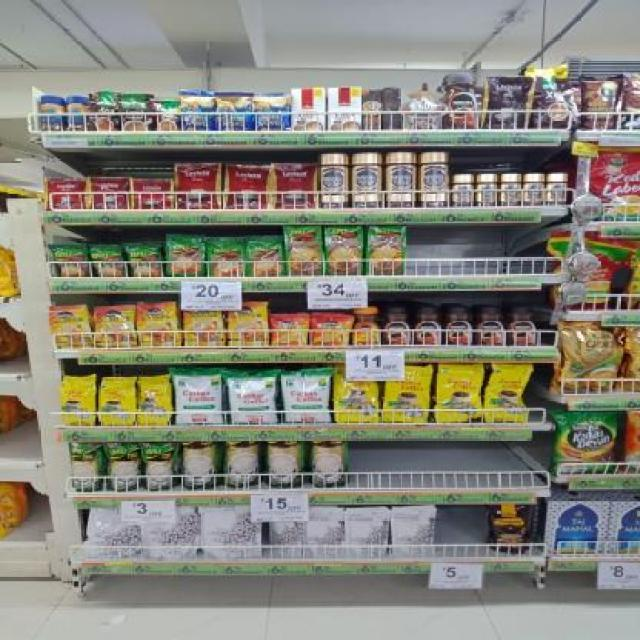Coffee: (443, 73, 479, 129), (318, 154, 349, 210), (137, 303, 178, 345), (95, 307, 137, 348), (51, 306, 92, 348), (230, 304, 269, 348), (420, 152, 448, 208), (353, 152, 381, 208), (387, 152, 416, 206), (185, 308, 225, 346), (413, 307, 441, 347), (445, 307, 472, 348), (382, 308, 410, 346), (273, 316, 307, 347), (315, 316, 349, 347), (478, 307, 504, 345), (353, 308, 379, 346), (511, 307, 535, 345), (525, 173, 545, 205), (453, 175, 473, 207), (478, 175, 498, 207), (548, 173, 566, 205), (502, 173, 520, 205)
